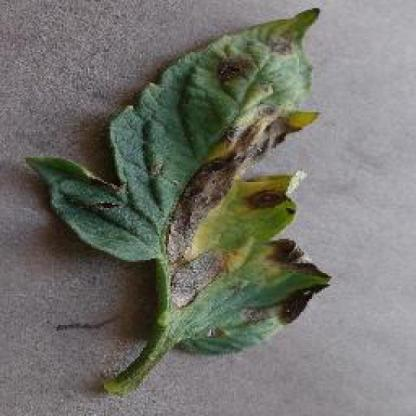Tomato_Blight: (27, 7, 332, 357)
